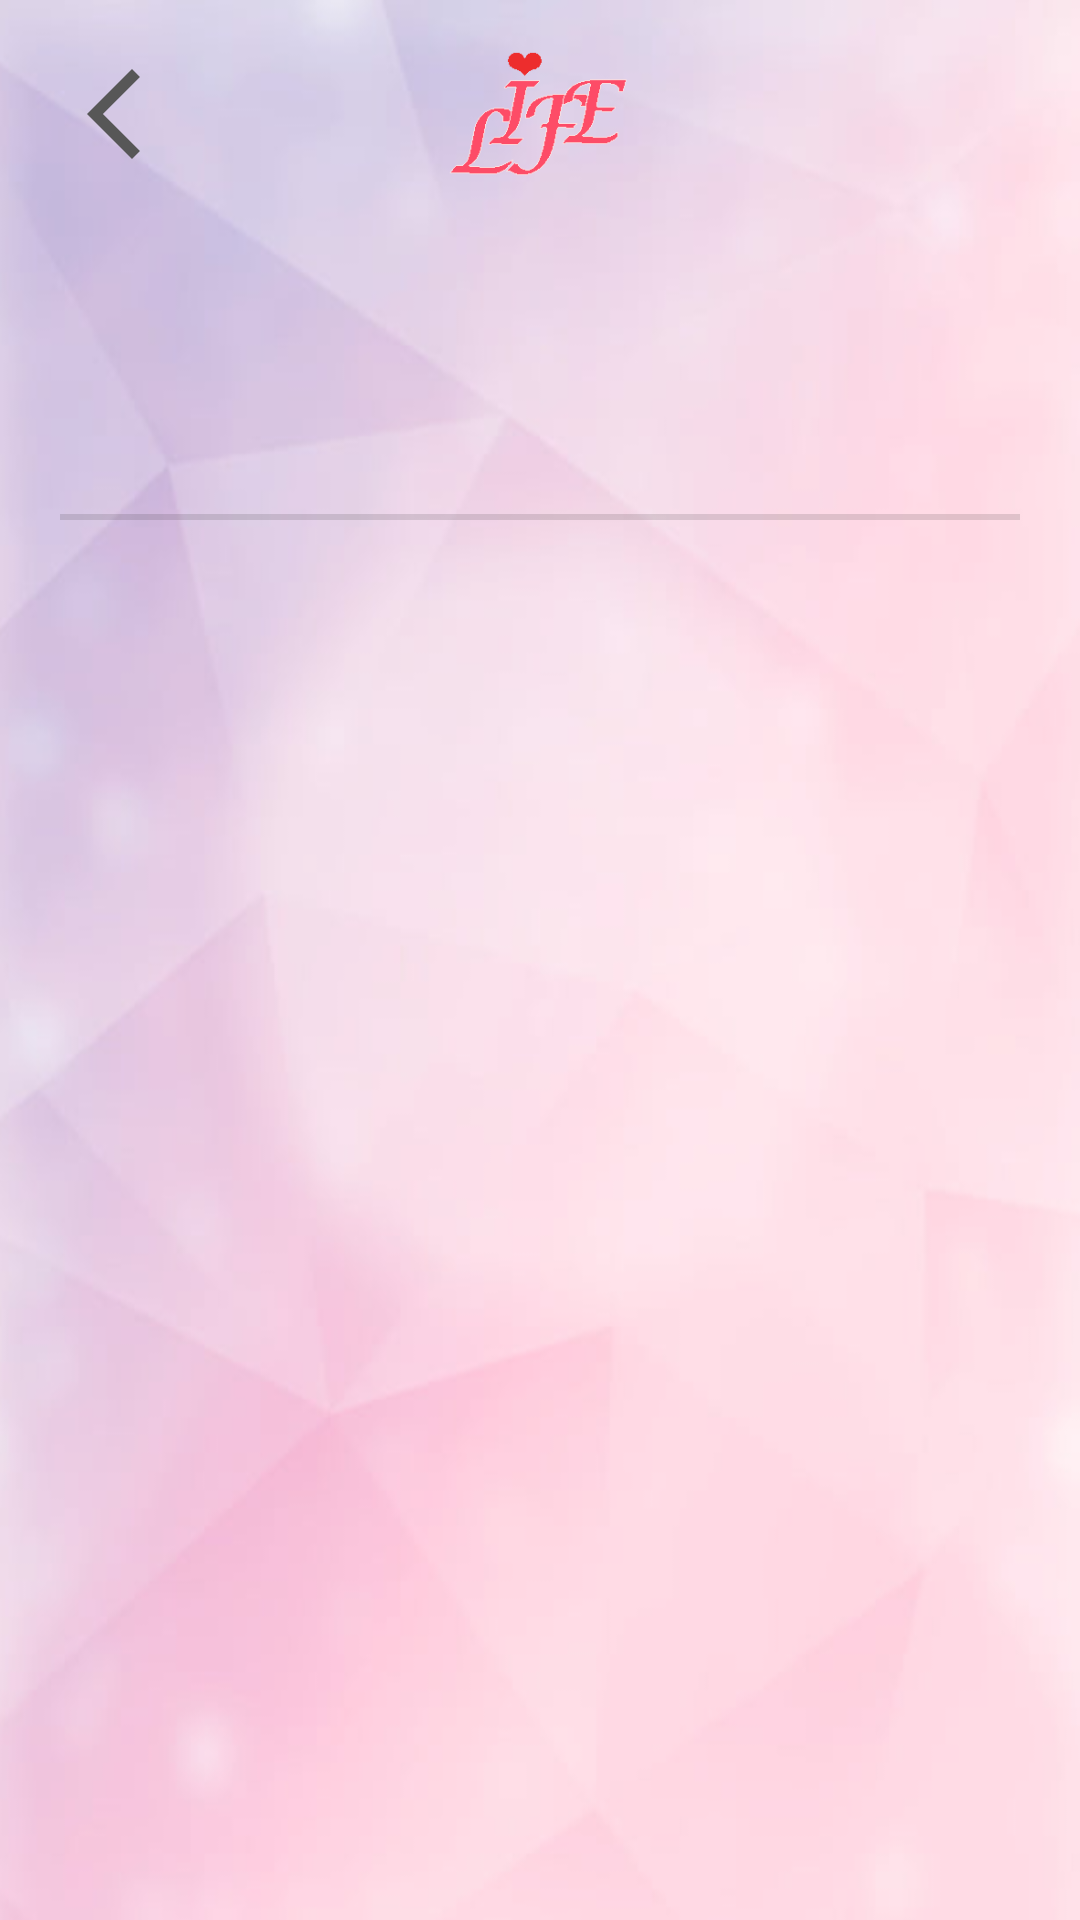

Icon click points for this 1080*1920 phone screenshot, format point (x, y):
back: point (113, 114)
